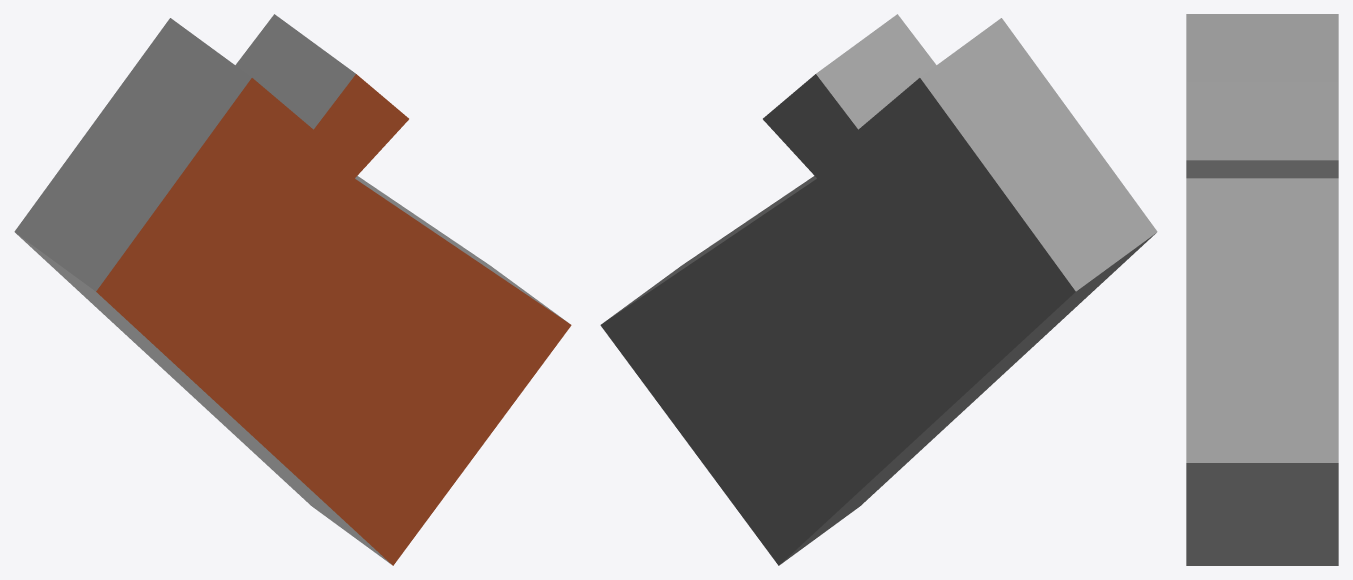
Rendered from construction_4384_assumed_A_Casa_h6m.obj.
3 views of the same model, side by side, from view 1: azimuth 30°, elevation 25°; view 2: azimuth 150°, elevation 25°; view 3: azimuth 270°, elevation 25° (orthographic). The views are drawn at different scales.
Parts seen in each view (by area): view 1: construction_4384_assumed_A_Casa; view 2: construction_4384_assumed_A_Casa; view 3: construction_4384_assumed_A_Casa.
Part boxes in pixels (x1=…): construction_4384_assumed_A_Casa: x1=14, y1=14, x2=571, y2=565; construction_4384_assumed_A_Casa: x1=600, y1=14, x2=1157, y2=565; construction_4384_assumed_A_Casa: x1=1186, y1=14, x2=1338, y2=565.
Bounding box in the file's own units: 20.16 × 21.18 × 6.
